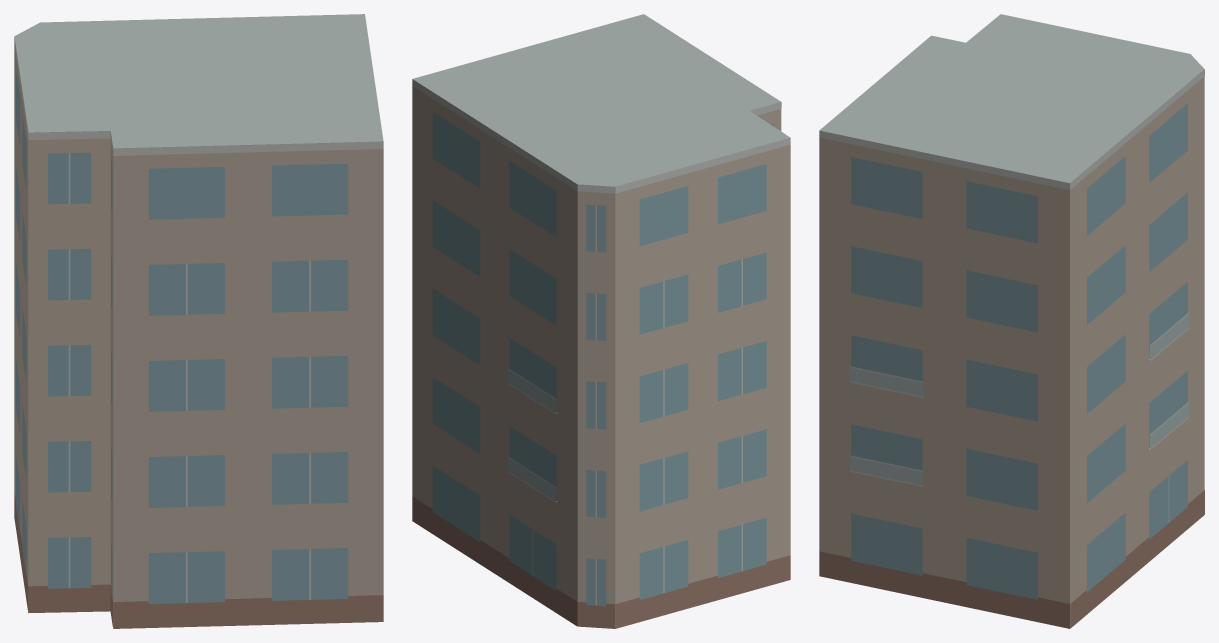
Rendered from survey-upis-32531411.glb.
3 renders of one model, left to right at view 1: azimuth 30°, elevation 25°; view 2: azimuth 150°, elevation 25°; view 3: azimuth 270°, elevation 25°, orthographic. The views are drawn at different scales.
Parts seen in each view (by area): view 1: survey-upis-32531411.tmp; view 2: survey-upis-32531411.tmp; view 3: survey-upis-32531411.tmp.
Boxes of the visible parts, x1,y1,x2,y2 form: survey-upis-32531411.tmp: (14,14,383,628); survey-upis-32531411.tmp: (412,14,790,628); survey-upis-32531411.tmp: (819,14,1204,628).
Bounding box in the file's own units: 12.71 × 15.6 × 12.24.
